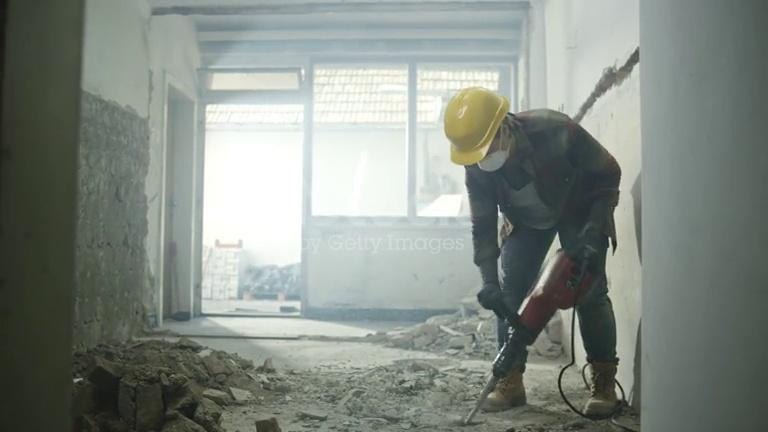helmet: (443, 86, 511, 166)
mask: (477, 149, 507, 172)
person: (442, 88, 628, 420)
